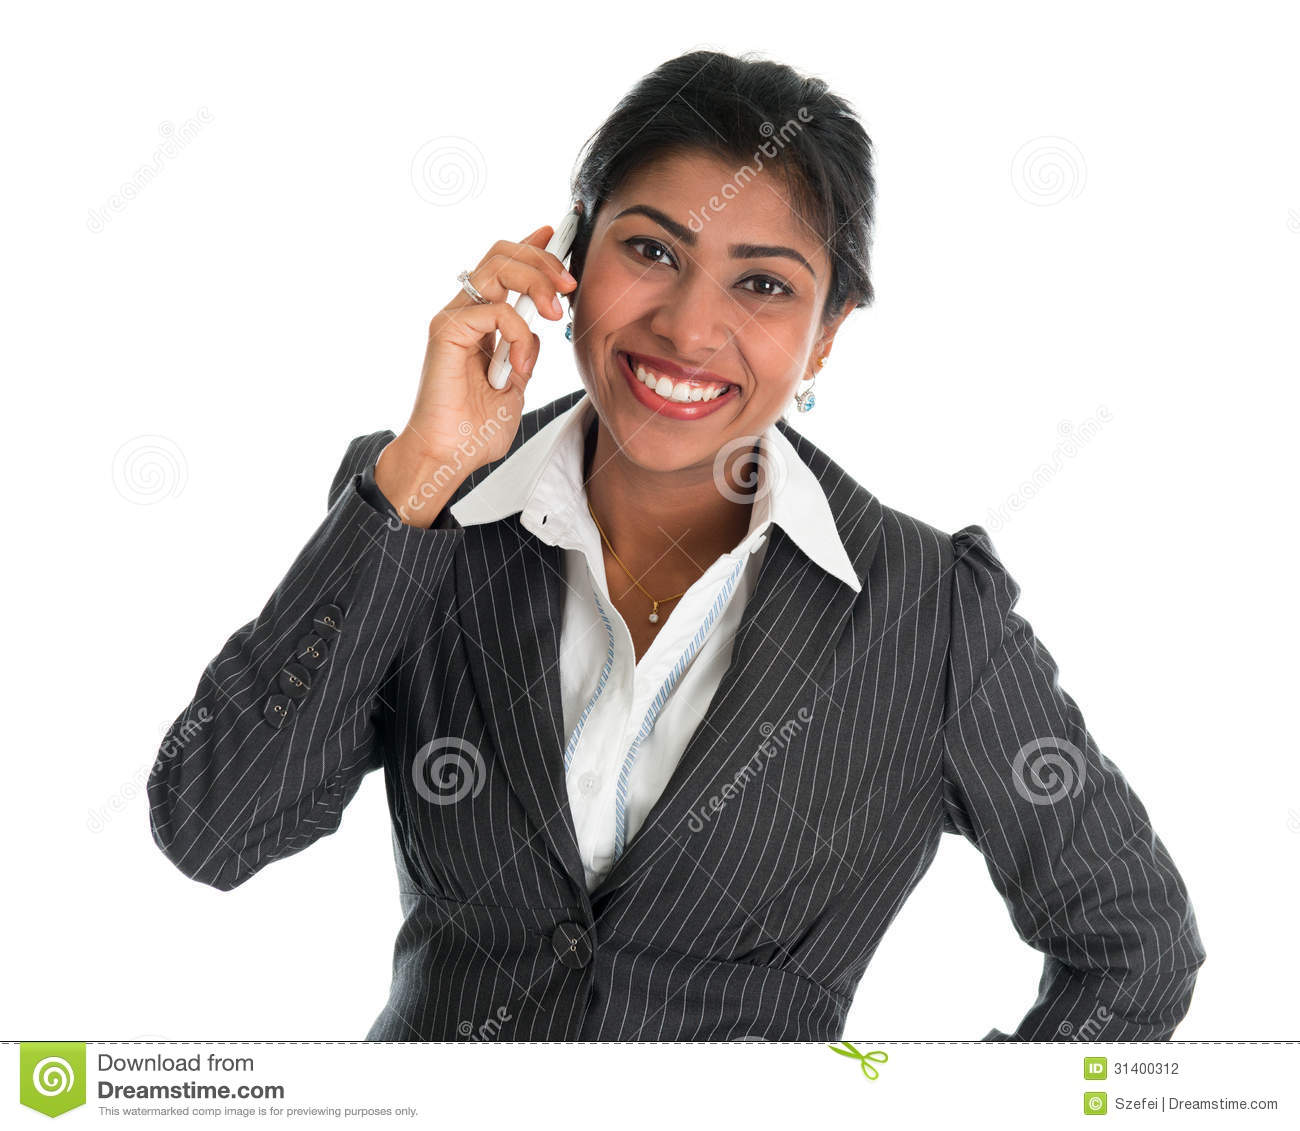phone: (497, 207, 580, 388)
talk: (412, 188, 821, 506)
